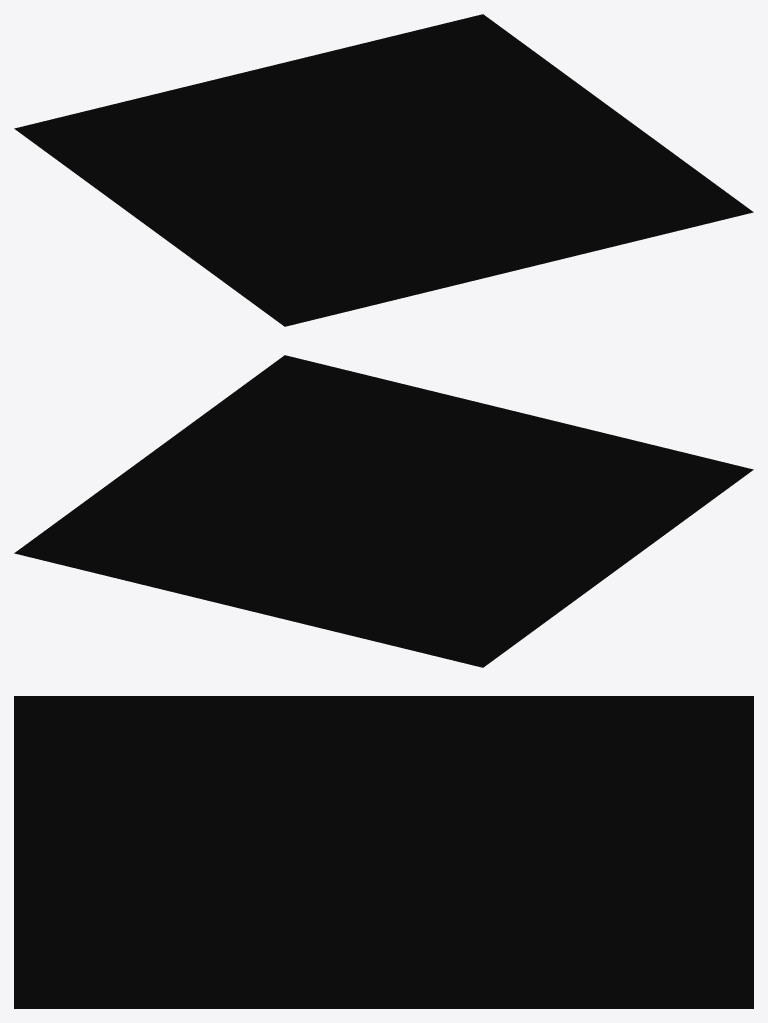
The model's file is BOTTOM_BLACK.gltf.
The picture shows the model from 3 angles, top to bottom: view 1: azimuth 30°, elevation 25°; view 2: azimuth 150°, elevation 25°; view 3: azimuth 270°, elevation 25°; orthographic projection. The views are drawn at different scales.
Parts seen in each view (by area): view 1: BOTTOM; view 2: BOTTOM; view 3: BOTTOM.
Part boxes in pixels (x1,y1,x2,y2): BOTTOM: (14, 14, 753, 326); BOTTOM: (14, 355, 753, 667); BOTTOM: (14, 696, 753, 1008).
Bounding box in the file's own units: 1.75 × 0 × 1.75.
1 material, 1 textured.
